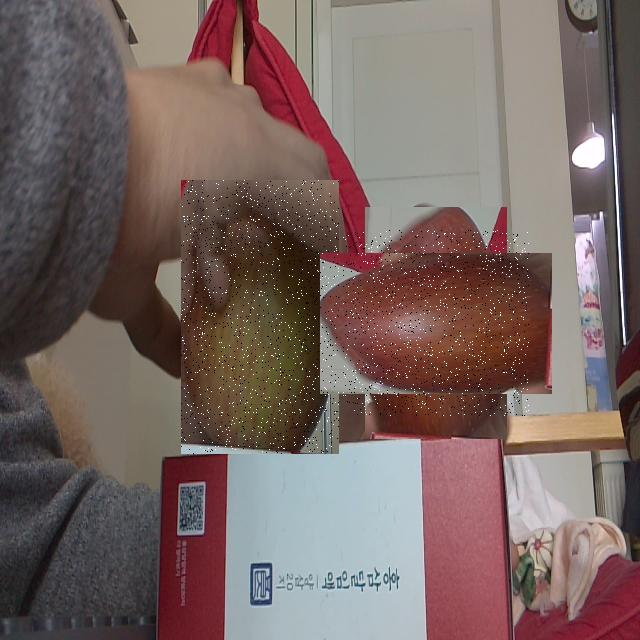apple: (181, 180, 339, 454), (343, 230, 529, 416)
